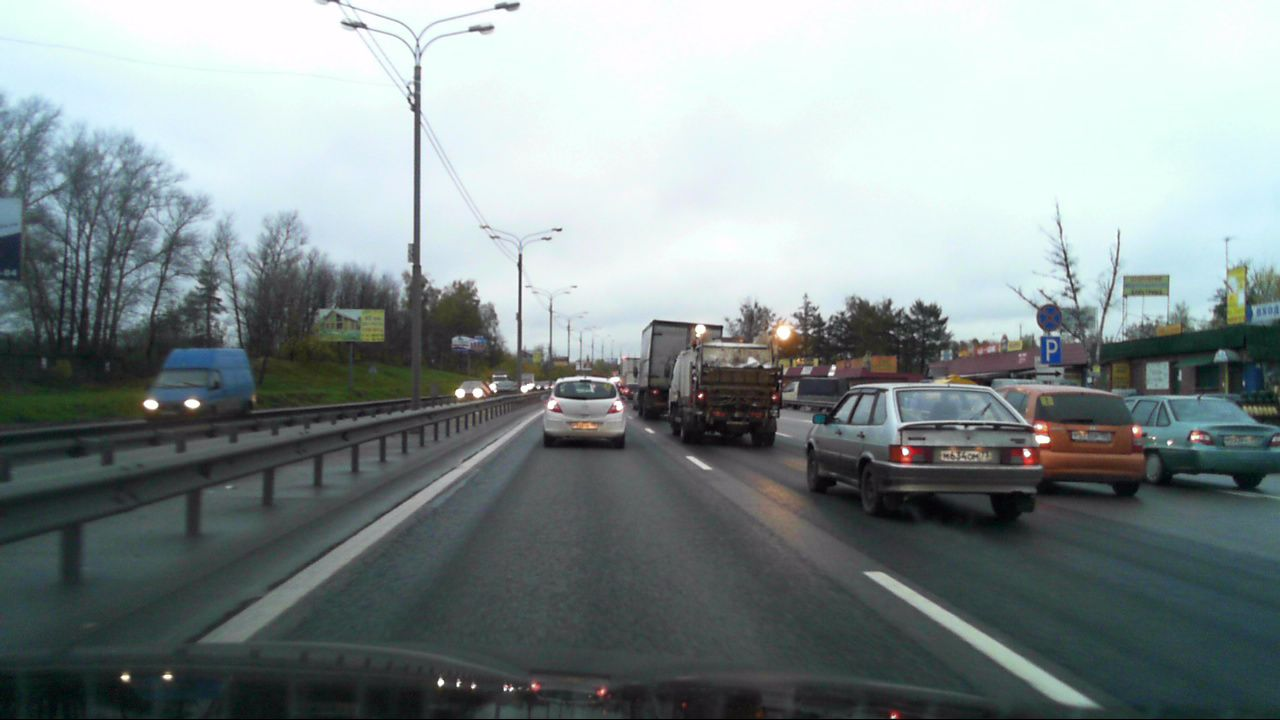No Parking: (1036, 304, 1061, 331)
